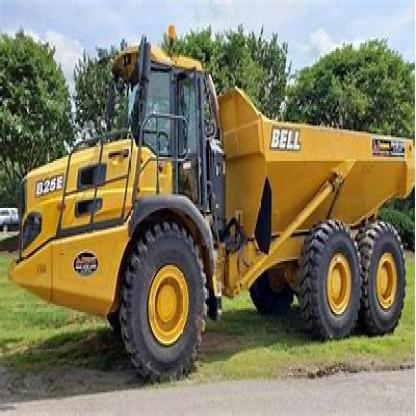dump_truck: (7, 21, 402, 382)
